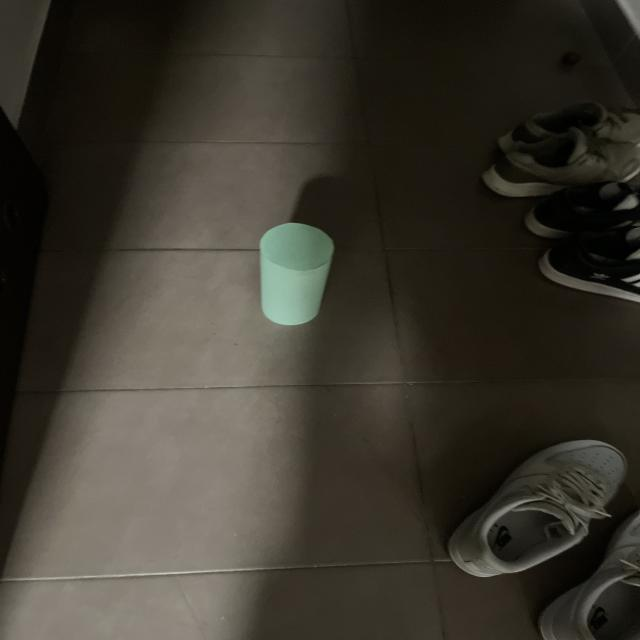meta: (260, 223, 334, 325)
